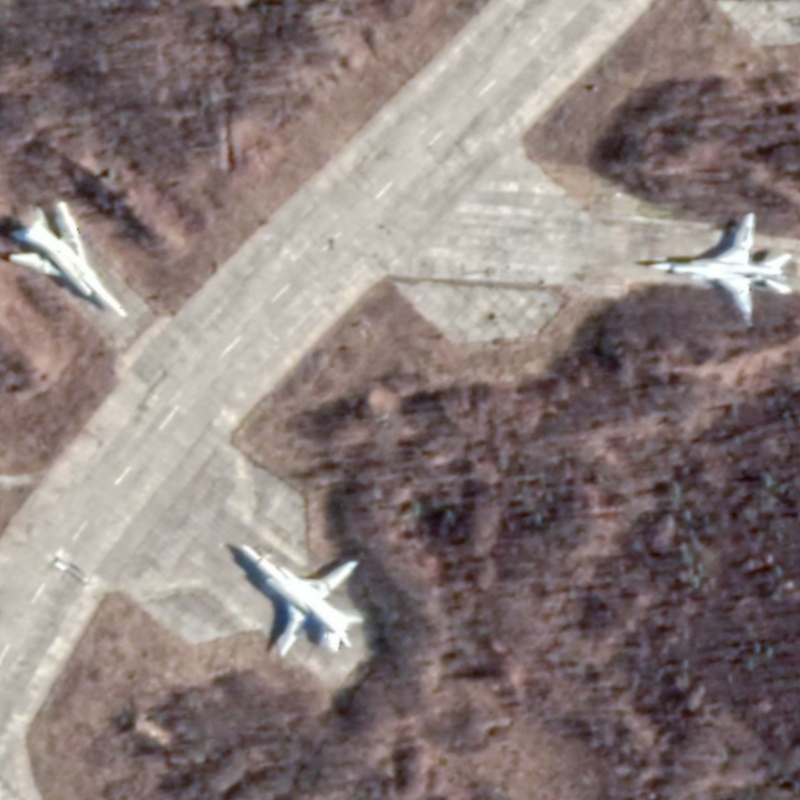A12: (644, 211, 796, 329), (6, 197, 131, 323), (235, 541, 368, 659)
